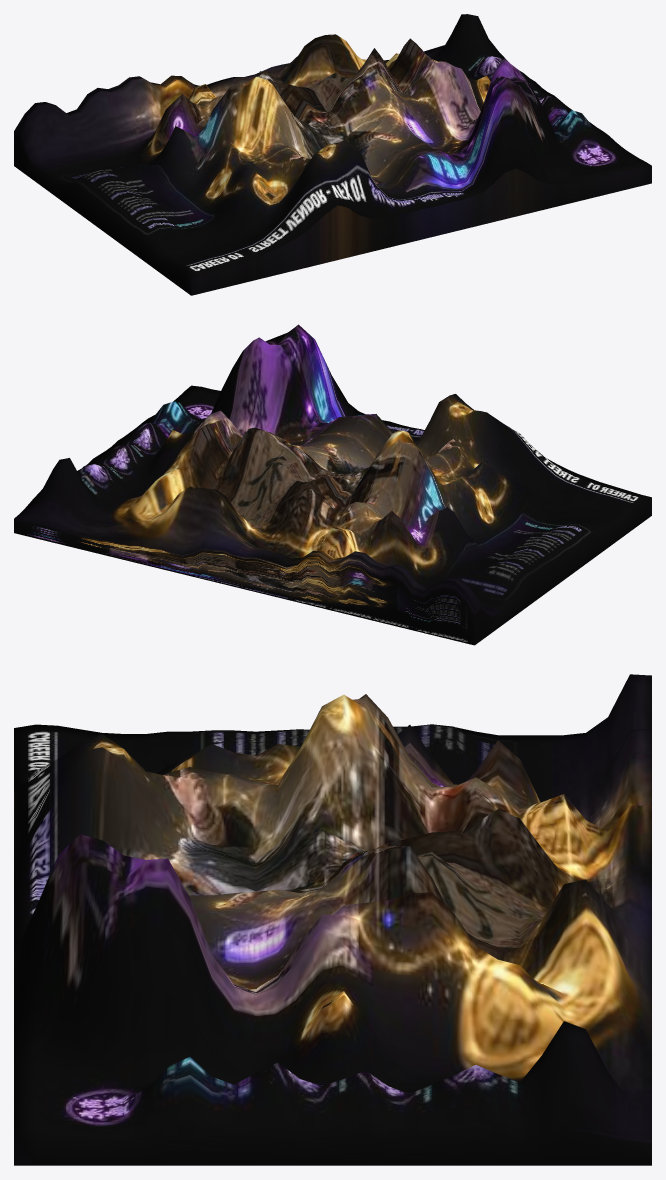
The model's file is CAREER_01_VFX_01_Sales_Aura.glb.
3 views of the same model, one above another, from view 1: azimuth 30°, elevation 25°; view 2: azimuth 150°, elevation 25°; view 3: azimuth 270°, elevation 25° (orthographic). The views are drawn at different scales.
Parts seen in each view (by area): view 1: CAREER_01_VFX_01_Sales_Aura; view 2: CAREER_01_VFX_01_Sales_Aura; view 3: CAREER_01_VFX_01_Sales_Aura.
Boxes of the visible parts, x1,y1,x2,y2 form: CAREER_01_VFX_01_Sales_Aura: [14, 14, 651, 295]; CAREER_01_VFX_01_Sales_Aura: [14, 324, 651, 645]; CAREER_01_VFX_01_Sales_Aura: [14, 674, 651, 1165].
Bounding box in the file's own units: 2 × 0.51 × 1.33.
1 material, 1 textured.
